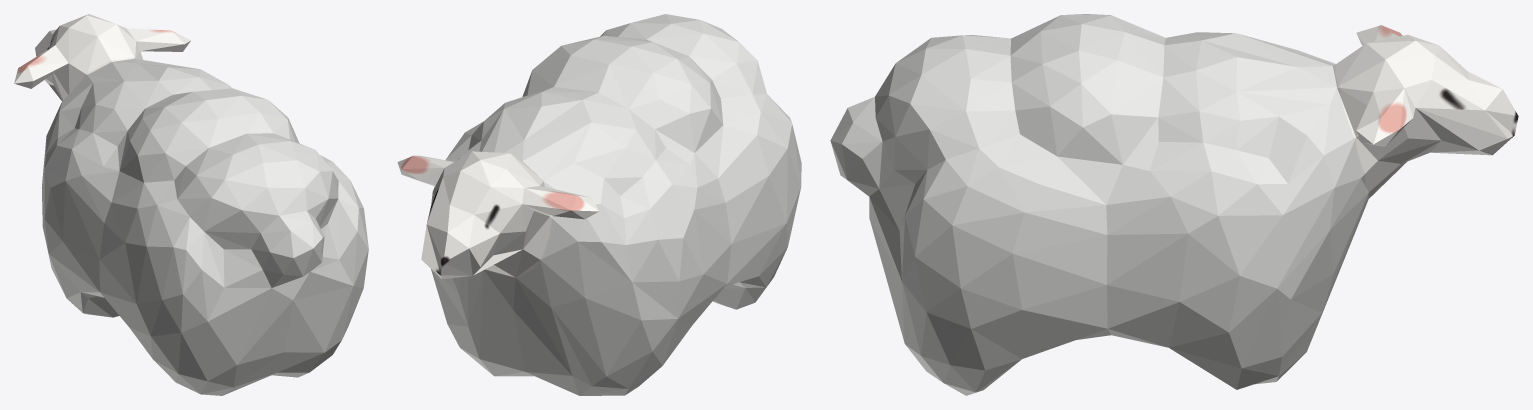
Rendered from animal_sheep_ewe_blob.obj.
3 renders of one model, left to right at view 1: azimuth 30°, elevation 25°; view 2: azimuth 150°, elevation 25°; view 3: azimuth 270°, elevation 25°, orthographic. The views are drawn at different scales.
Parts seen in each view (by area): view 1: animal_sheep_ewe_blob; view 2: animal_sheep_ewe_blob; view 3: animal_sheep_ewe_blob.
Boxes of the visible parts, x1,y1,x2,y2 form: animal_sheep_ewe_blob: (14,14,368,395); animal_sheep_ewe_blob: (397,14,801,395); animal_sheep_ewe_blob: (830,14,1518,395).
Bounding box in the file's own units: 0.6309 × 0.6972 × 1.29.
